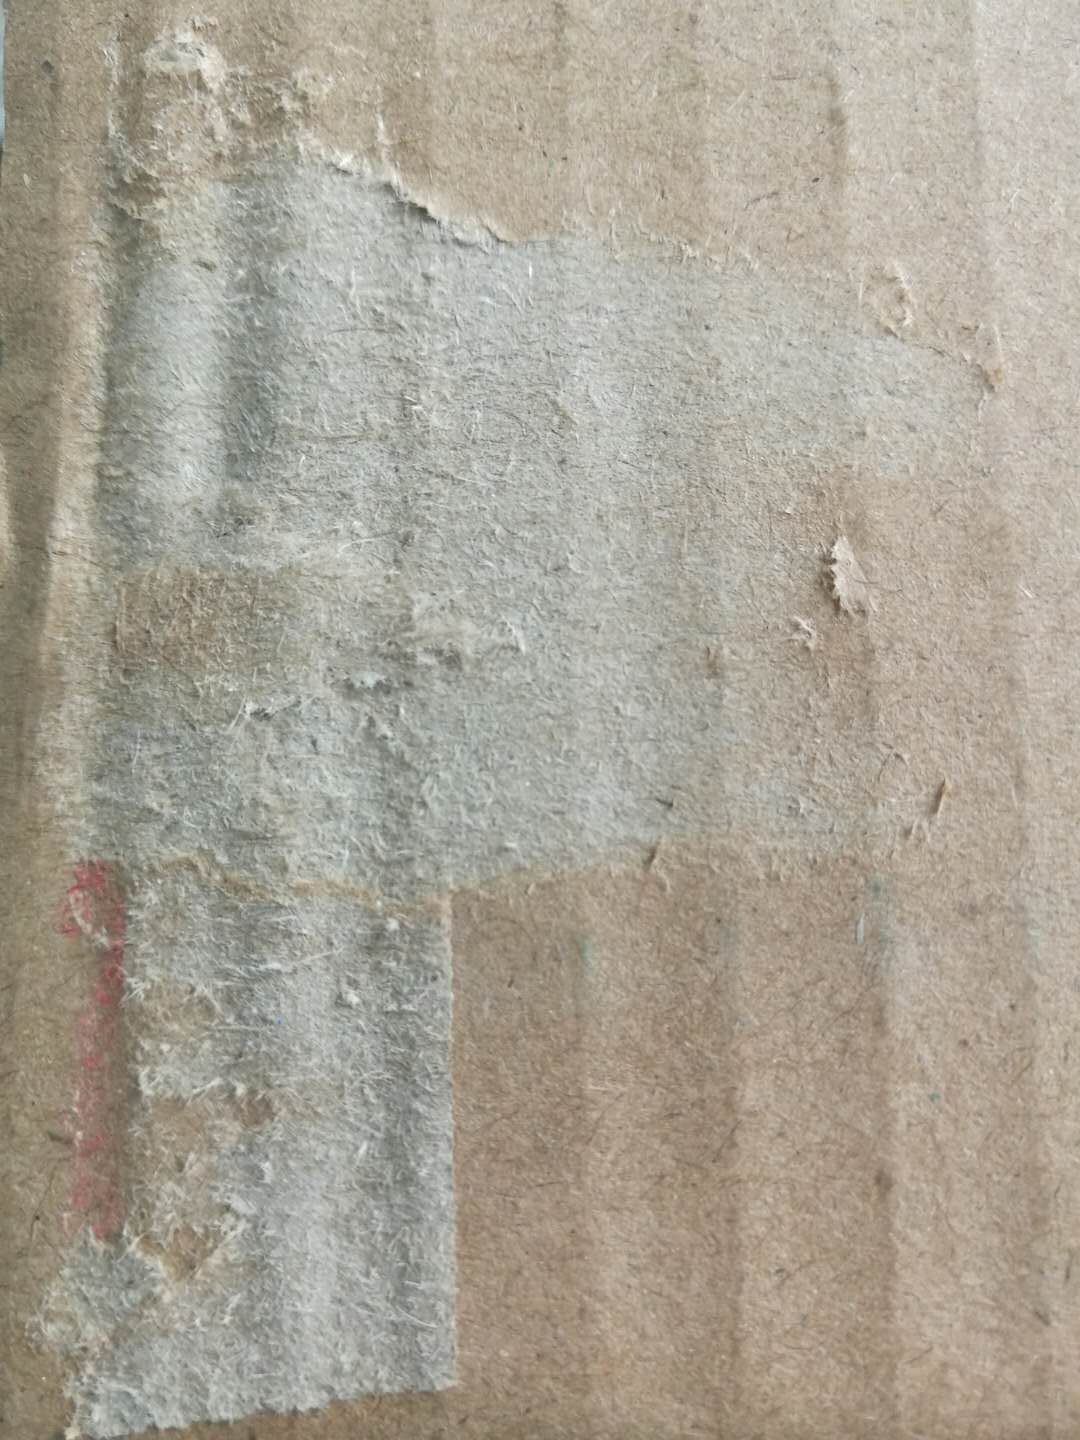defect: (8, 12, 1035, 1439)
